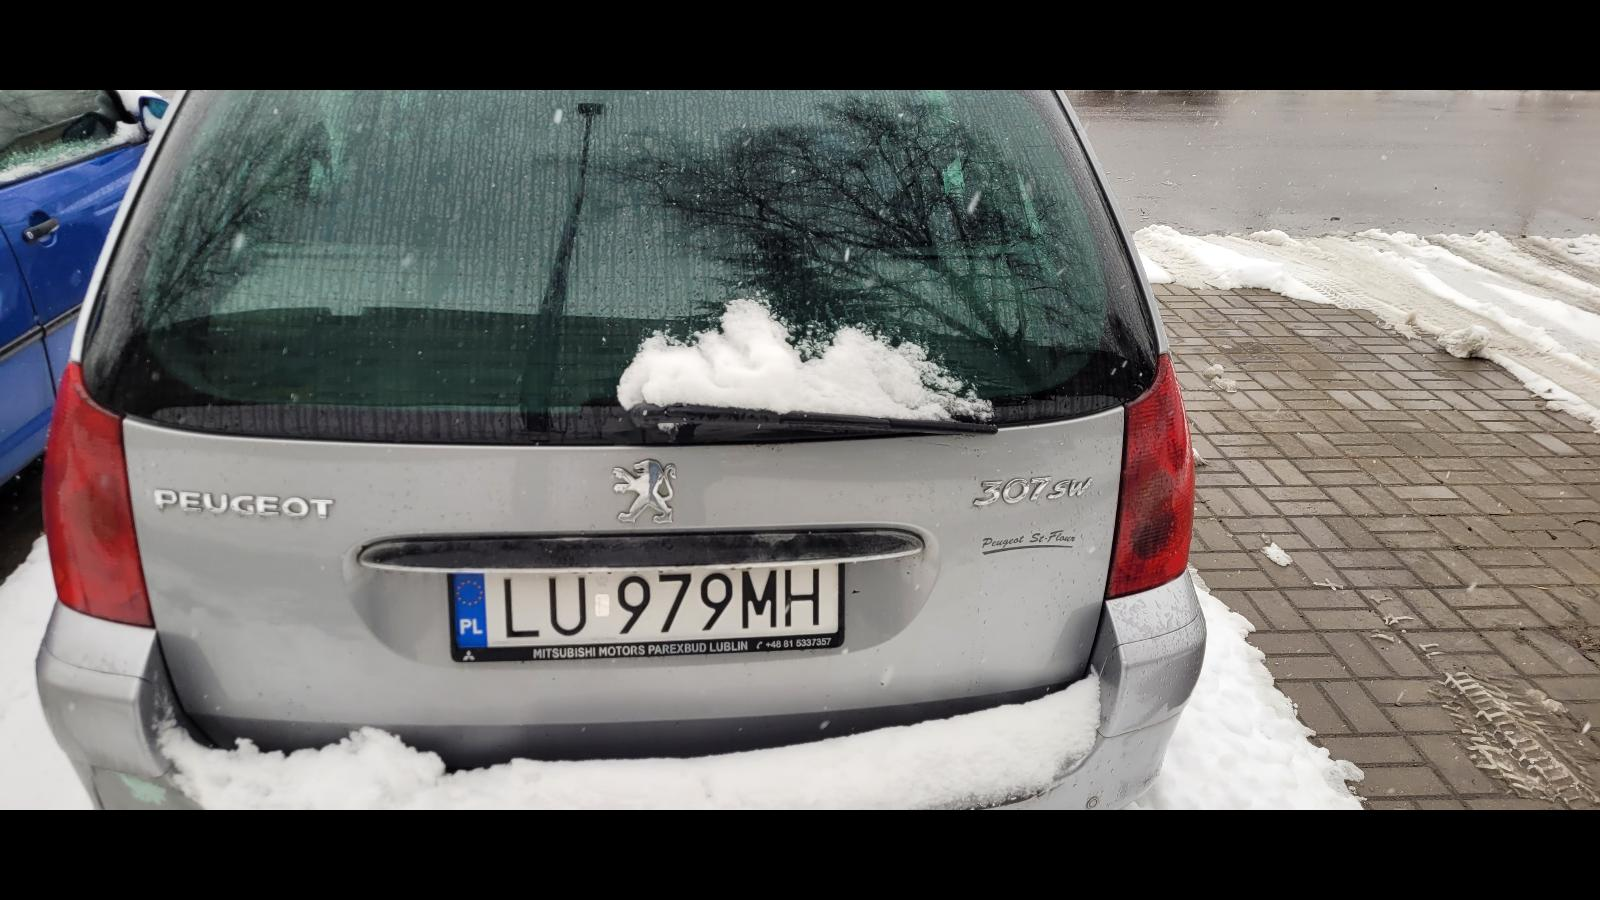plates: (447, 562, 844, 662)
